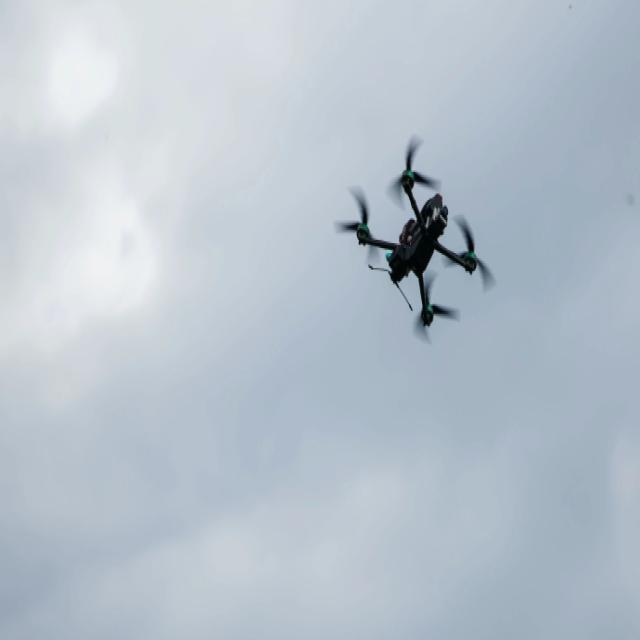drone: (335, 135, 500, 345)
